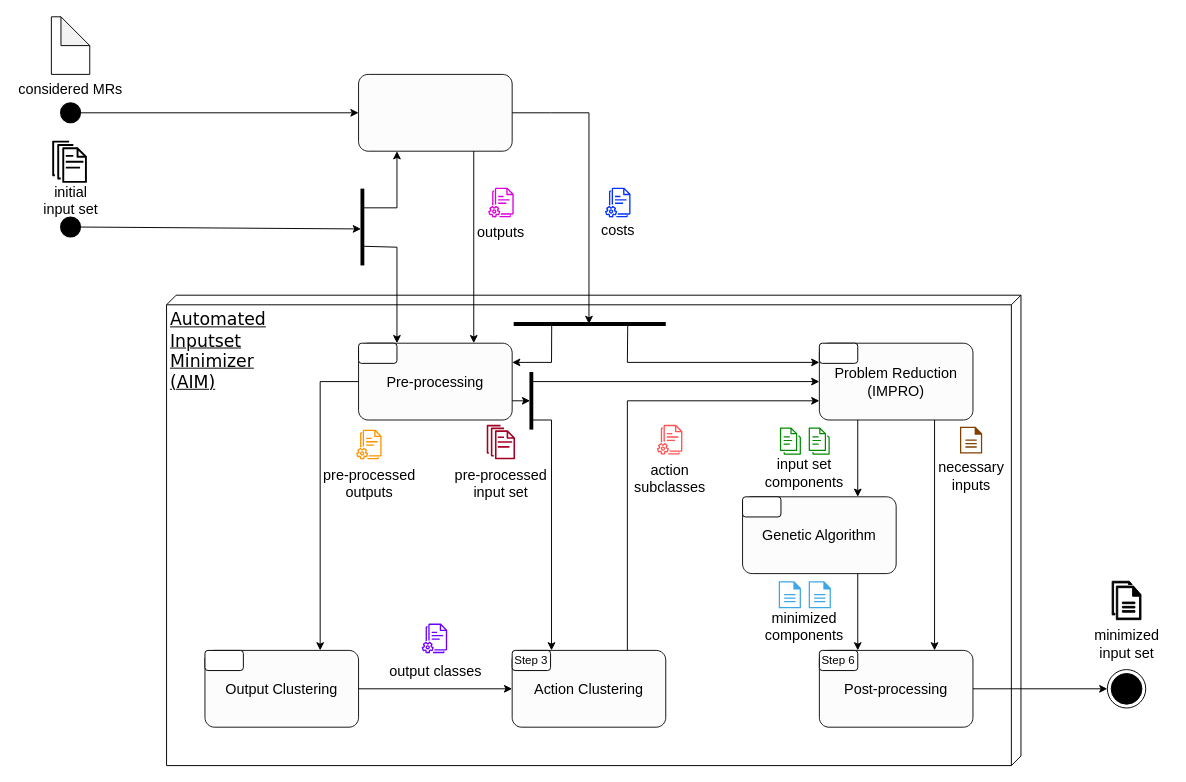
Image size: 1186x782. Some labels were removed from this diagram. The centre of each missing label's shape, as x and y in pixels:
"Data Collection" goes at (435,112).
"Step 1" goes at (377,352).
"Step 2" goes at (223,660).
"Step 4" goes at (838,352).
"Step 5" goes at (761,506).
